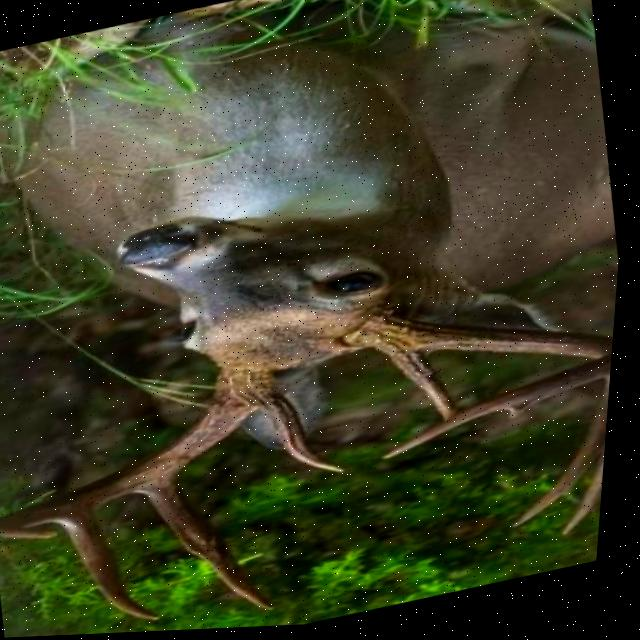E1: (507, 402, 552, 425)
L-F: (346, 311, 619, 463)
L-G1: (393, 353, 463, 426)
L-G3: (520, 381, 617, 533)
R-F: (0, 367, 281, 540)
R-G1: (245, 387, 353, 477)
R-G2: (140, 472, 287, 613)
R-G3: (60, 509, 172, 622)
